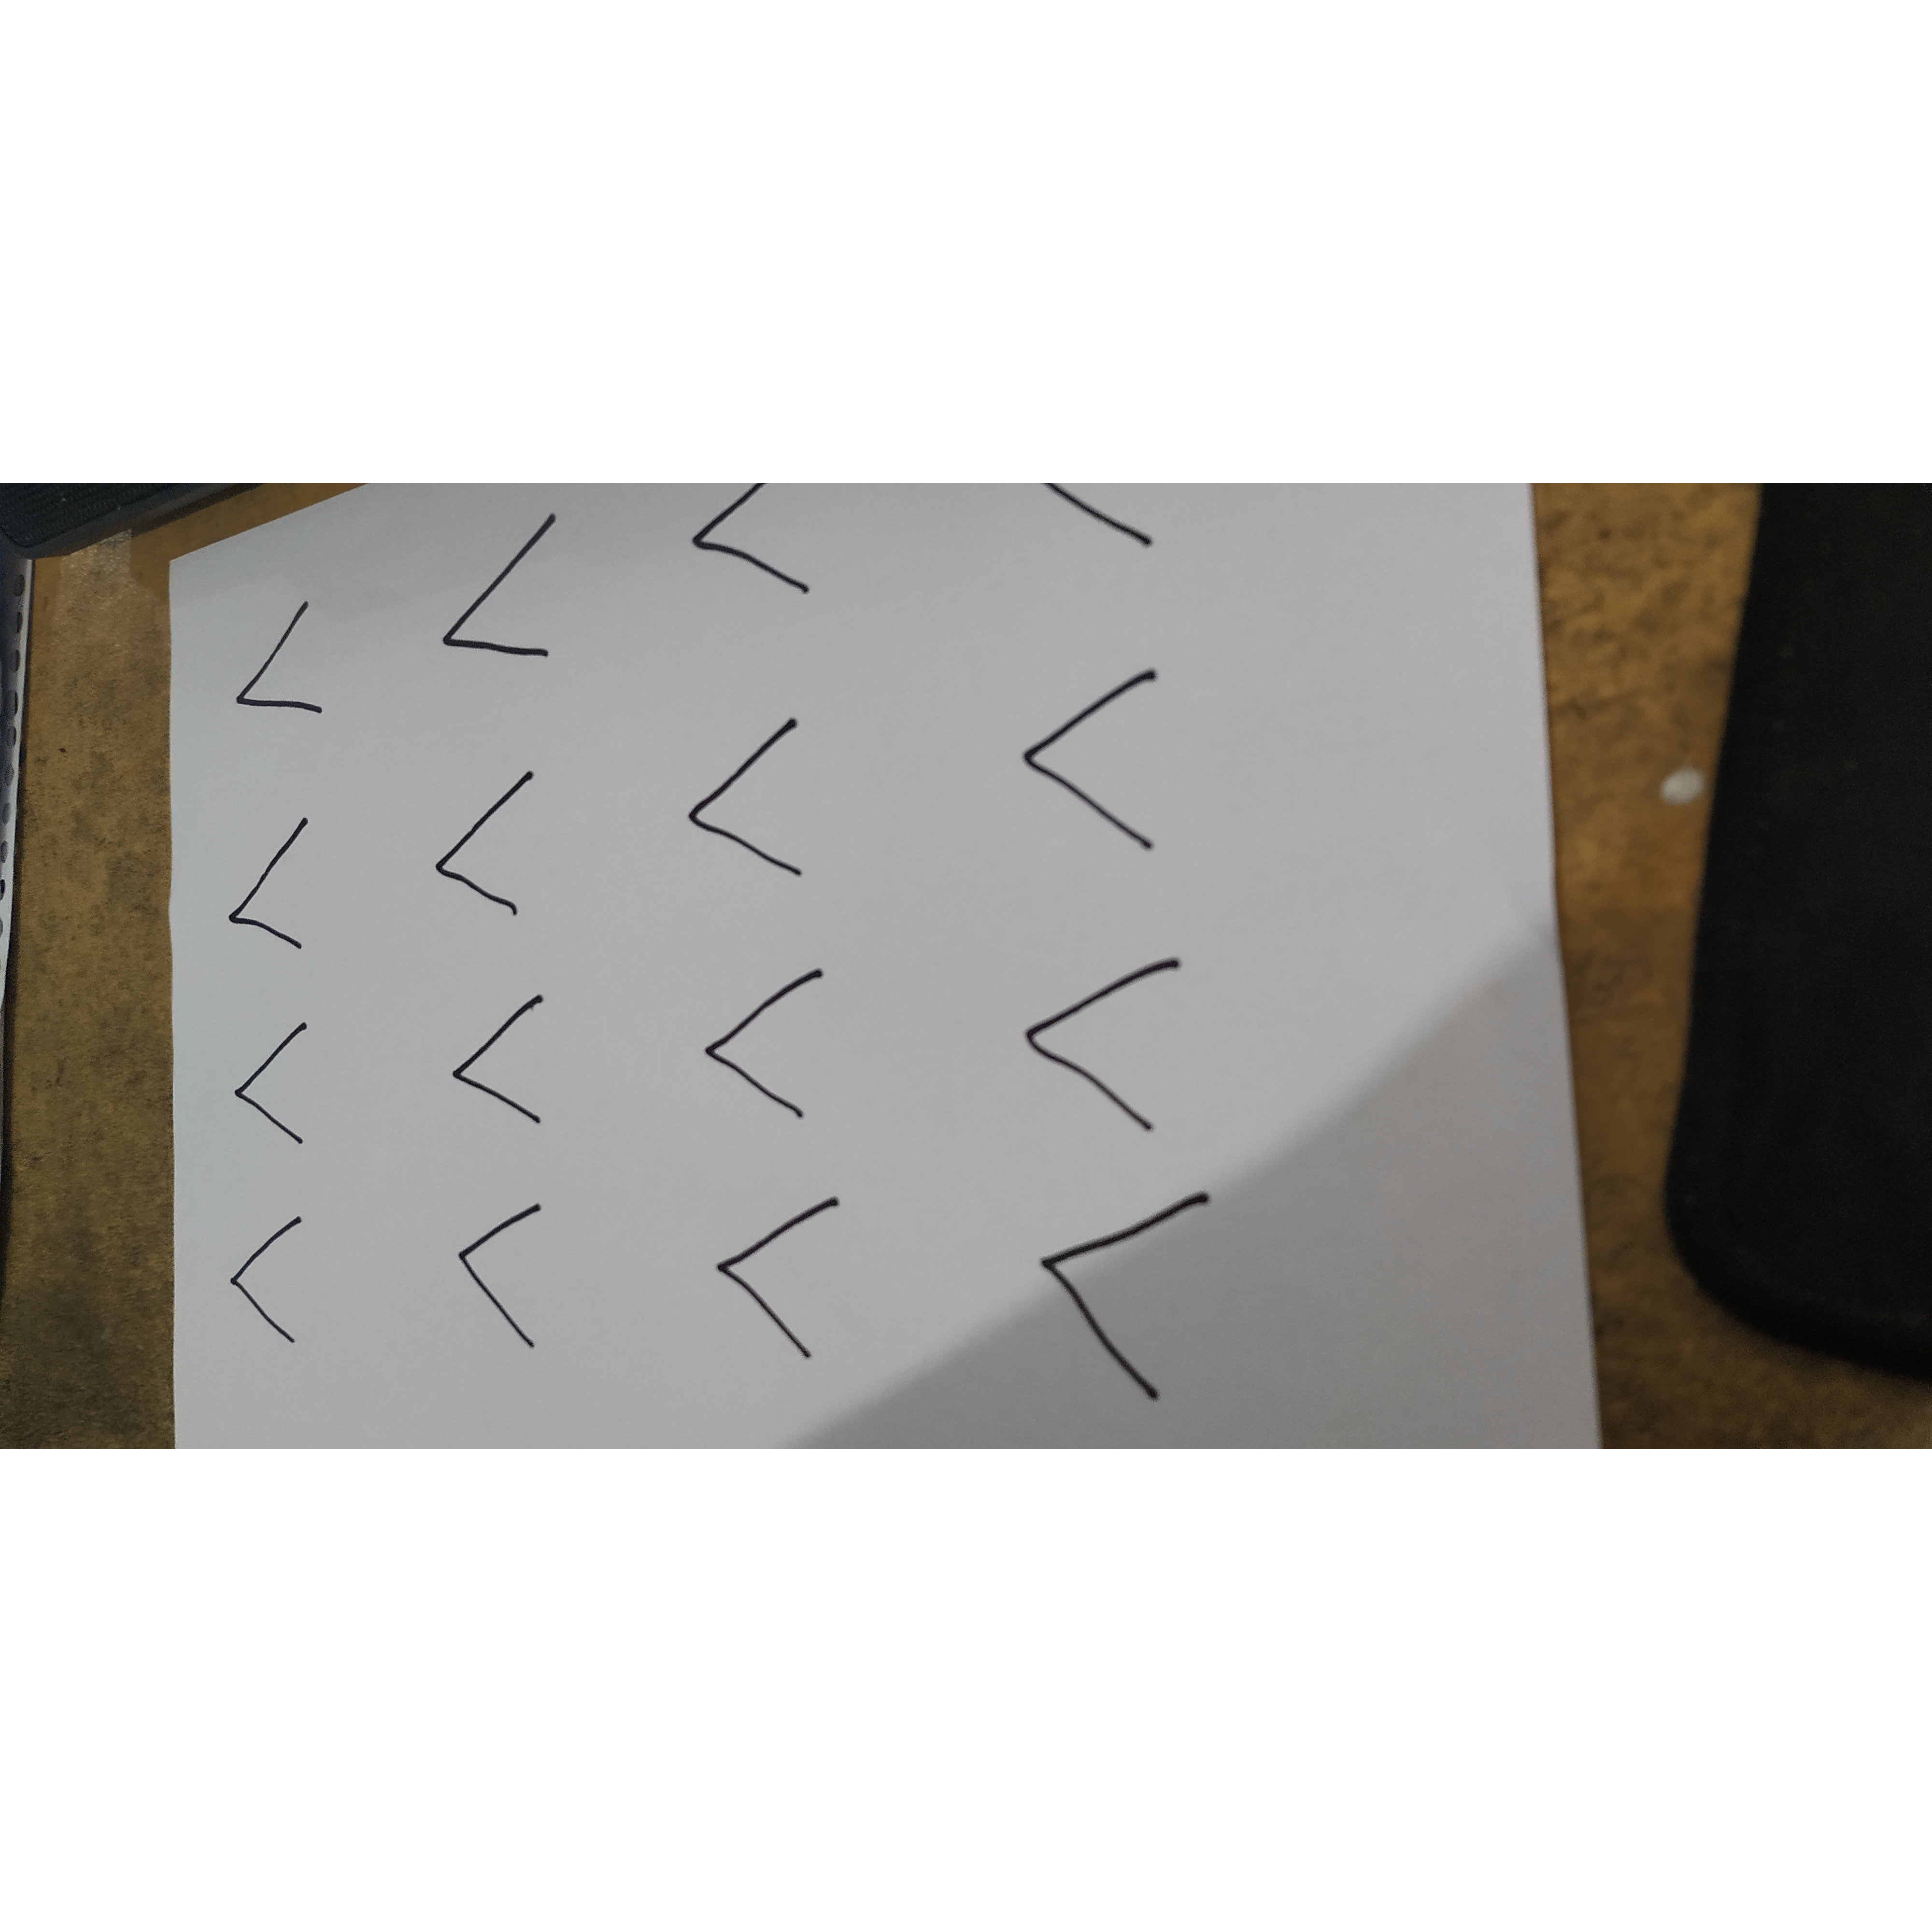lessthan: (992, 926, 1215, 1153), (983, 657, 1196, 874), (1017, 1191, 1234, 1403), (654, 706, 841, 920), (668, 951, 855, 1144), (414, 512, 606, 681), (696, 1191, 860, 1369), (404, 760, 570, 937), (425, 979, 572, 1165), (200, 810, 352, 974), (196, 594, 372, 735), (429, 1197, 568, 1371), (202, 1201, 328, 1378), (207, 1006, 349, 1159)
